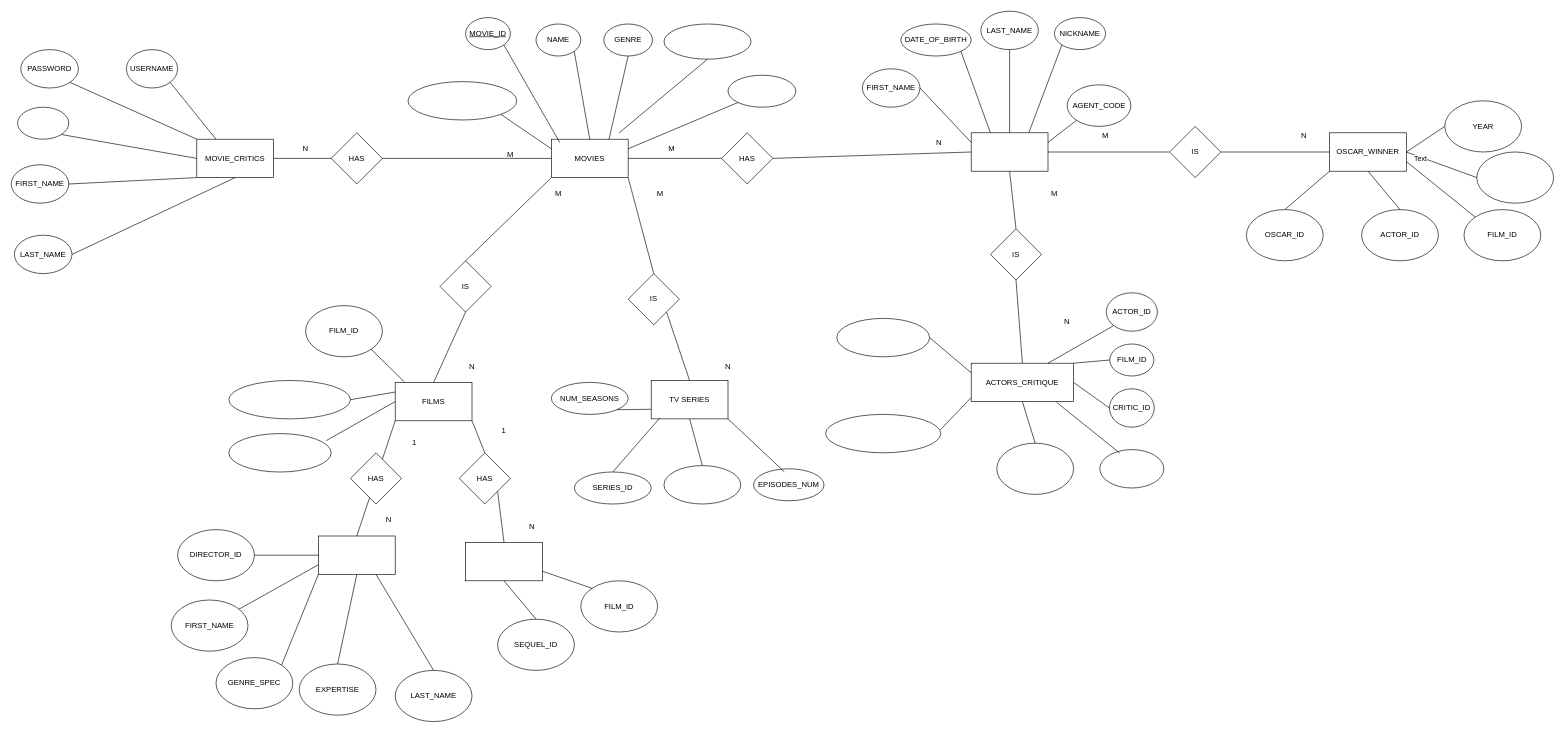
This 1565x733 diagram has some shape labels left out. The box of each missing label's shape, as (x1, y1, x2, y2) in pixels:
ACTORS: (971, 132, 1048, 171)
CRITICS_ID: (17, 107, 69, 139)
DIRECTORS: (318, 535, 395, 574)
FIRST_WEEK_EAARNINGS: (228, 380, 350, 419)
GRADE_ACTING: (1099, 449, 1164, 488)
GRADE_DEVOTION: (996, 443, 1074, 494)
GRADE_EXPRESSION: (836, 318, 930, 357)
GRADE_NATURALNESS: (825, 414, 941, 453)
ORIGIN_COUNTRY: (663, 23, 751, 59)
PREMIERE_CITY: (727, 75, 796, 107)
PREMIERE_FORMAT: (228, 433, 331, 472)
PRODUCTION_COMPANY: (407, 81, 517, 120)
ROLE: (1476, 151, 1554, 203)
SEQUELS: (465, 542, 542, 581)
TV_CHANNEL: (663, 465, 741, 504)
